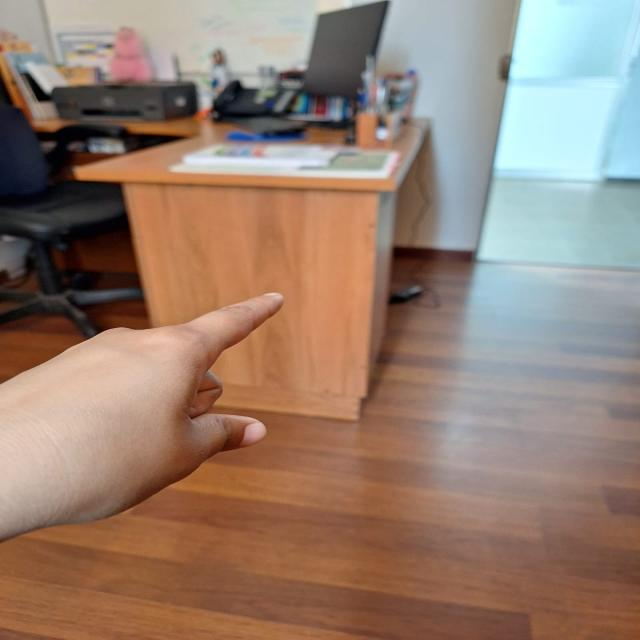S: (0, 282, 320, 538)
